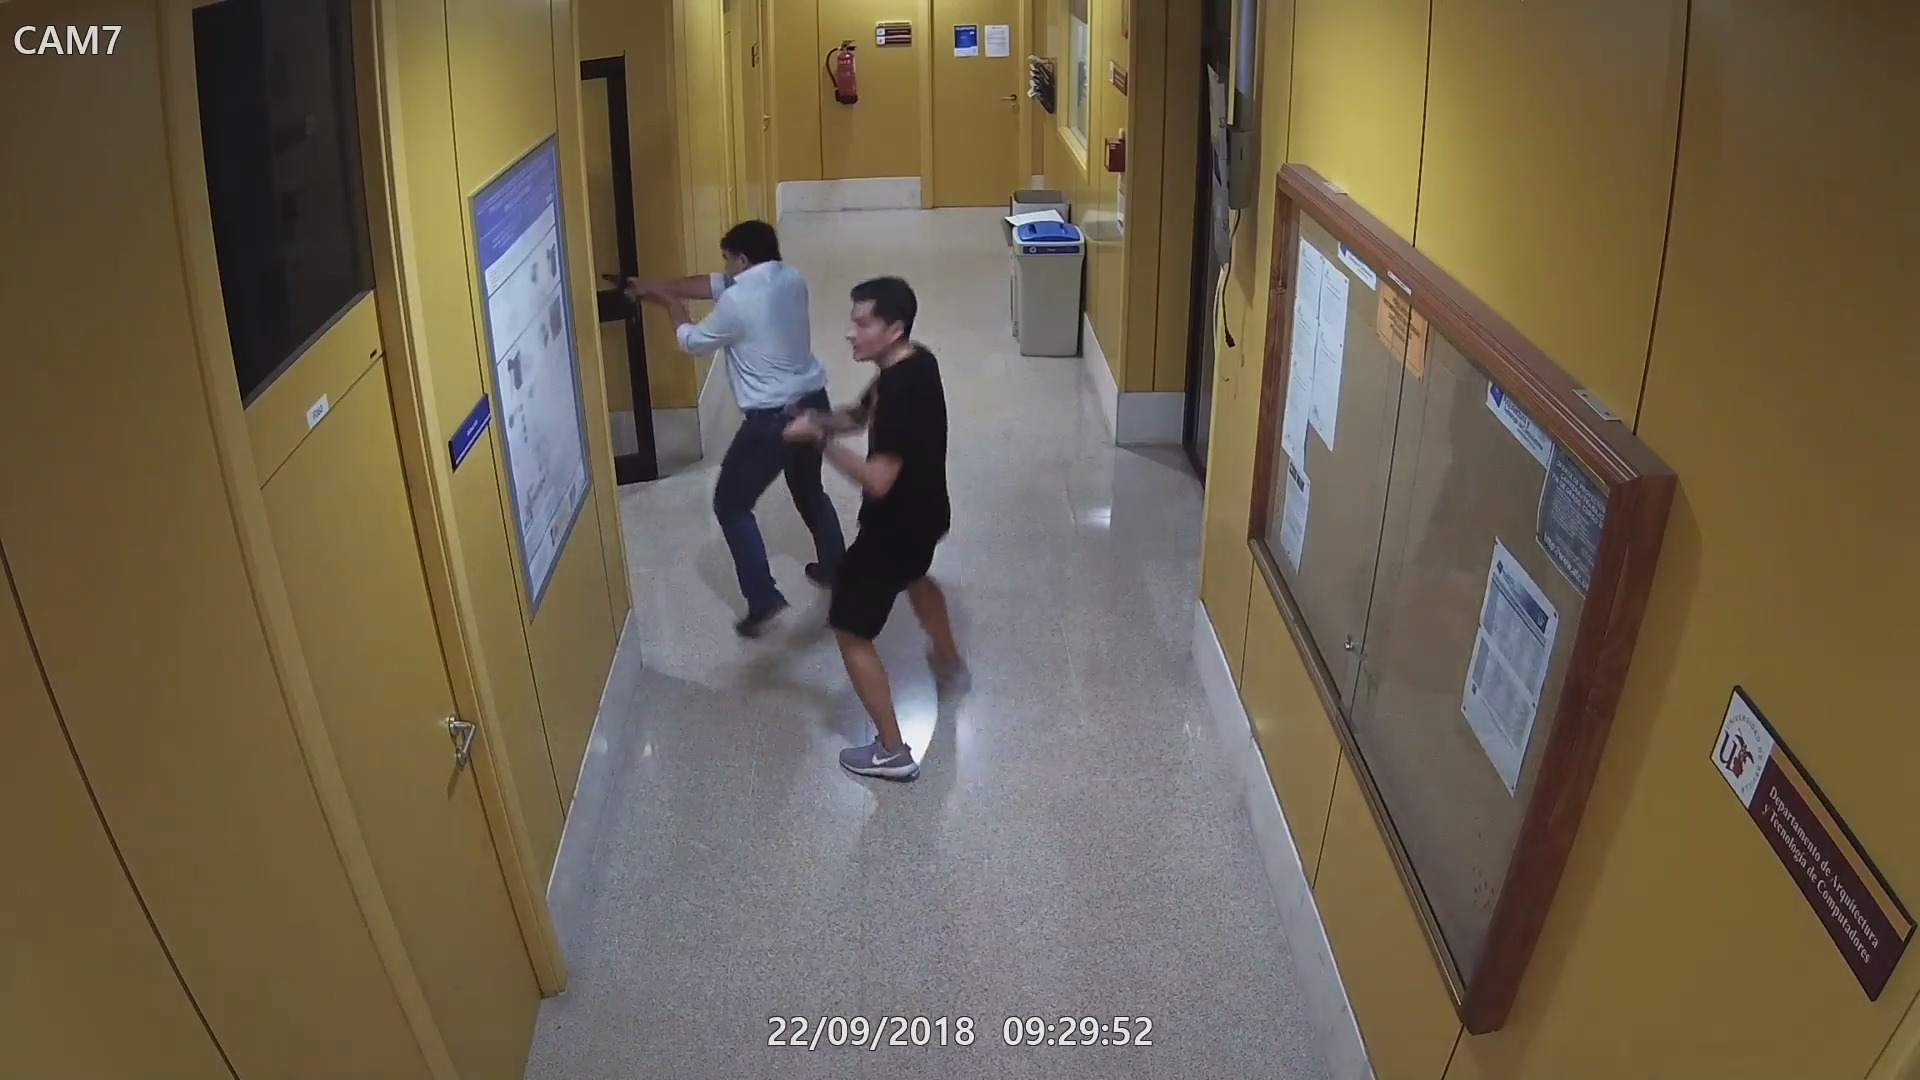pistol: (746, 404, 822, 440), (596, 266, 663, 305)
